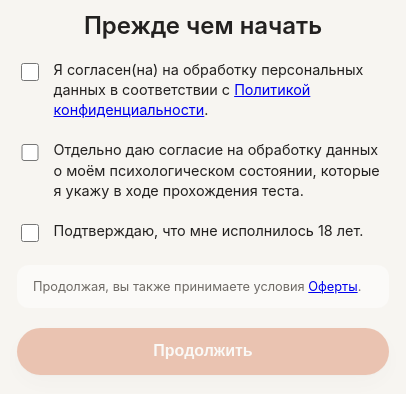
Consent › disables continue until all three checkboxes are checked
Expected: the button "Продолжить" is disabled, [17,328,389,375]
Click the 1st checkbox. click: (30, 72)
box: [21,63,39,81]
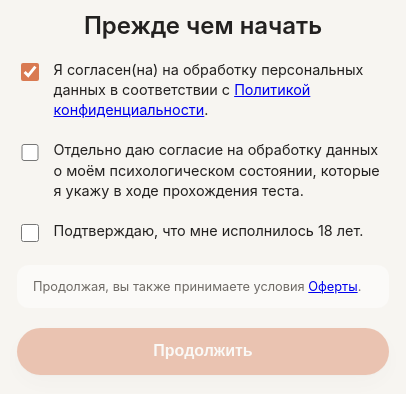
Expected: the button "Продолжить" is disabled, [17,328,389,375]
Click the 2nd checkbox. click: (30, 152)
box: [21,144,39,161]
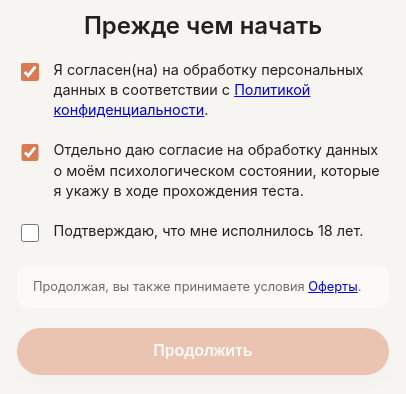
Expected: the button "Продолжить" is disabled, [17,328,389,375]
Click the checkbox labelled "Подтверждаю, что мне исполнилось 18 лет.". click: (30, 233)
box: [21,224,39,242]
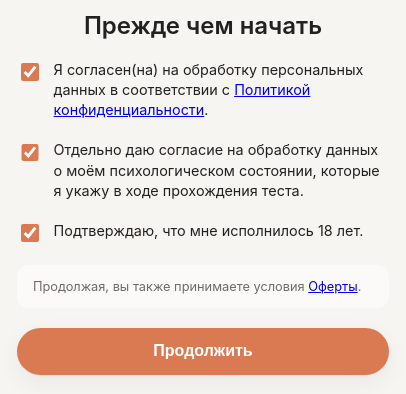
Result: the button "Продолжить" is enabled at [17,328,389,375]
